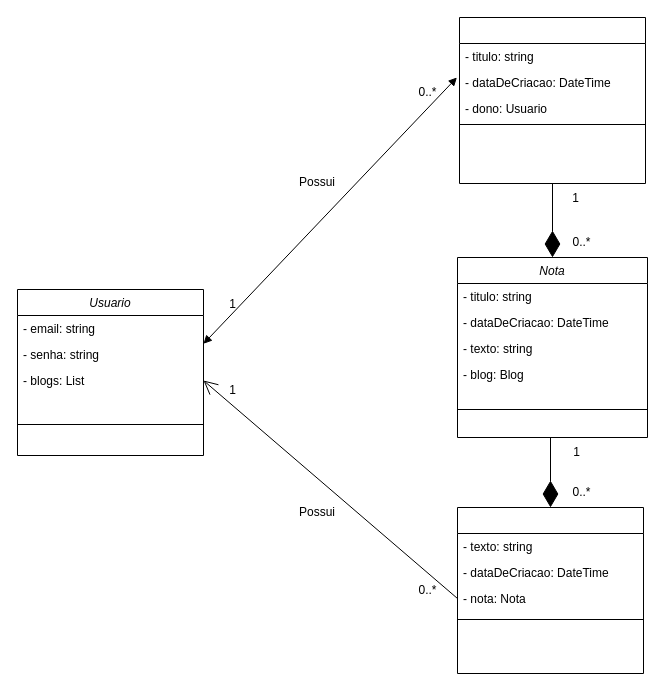
This 665x691 diagram has some shape labels left out. Here are the shapes that lost their labels. From the top down, the box of each, then its label:
(458, 16, 646, 184): Blog
(456, 506, 644, 674): Comentário
